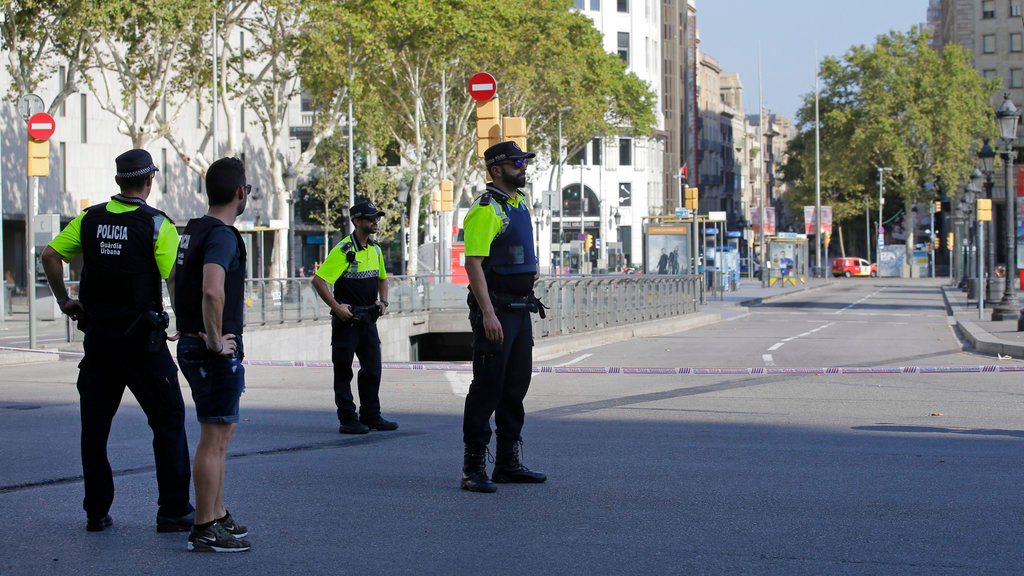Person: (42, 150, 178, 529), (461, 140, 546, 492), (180, 158, 253, 551), (310, 202, 397, 435)
